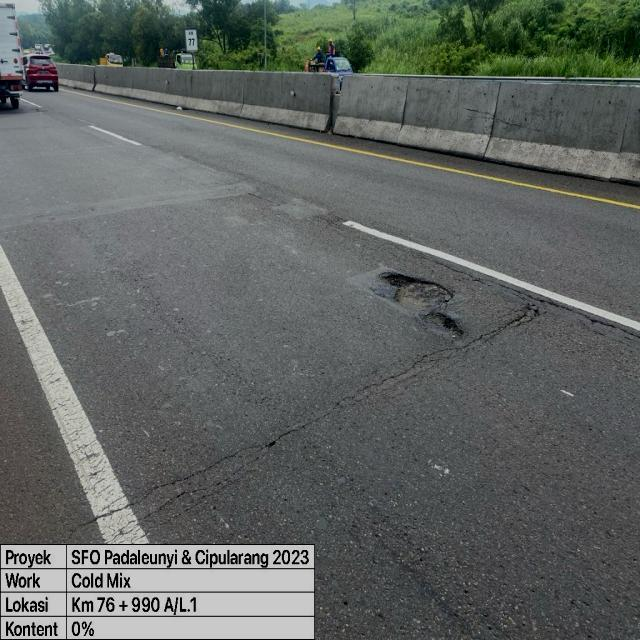Buraco: (365, 268, 468, 344)
